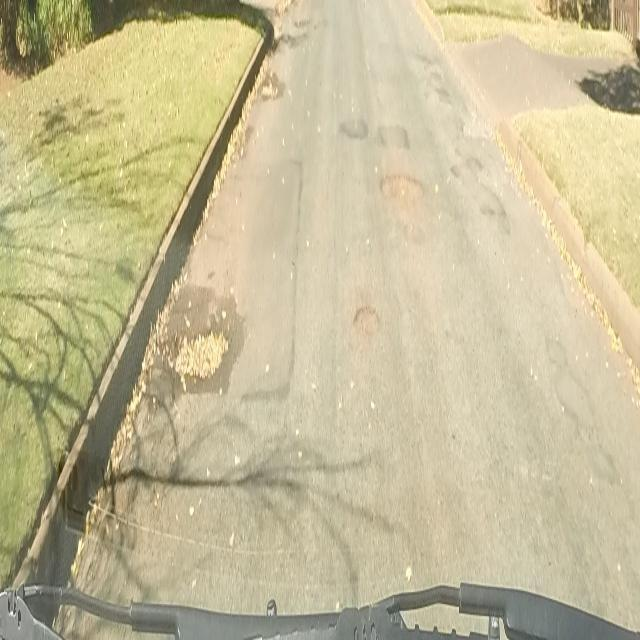pothole: (169, 319, 233, 391), (379, 168, 425, 209), (352, 298, 382, 346)
